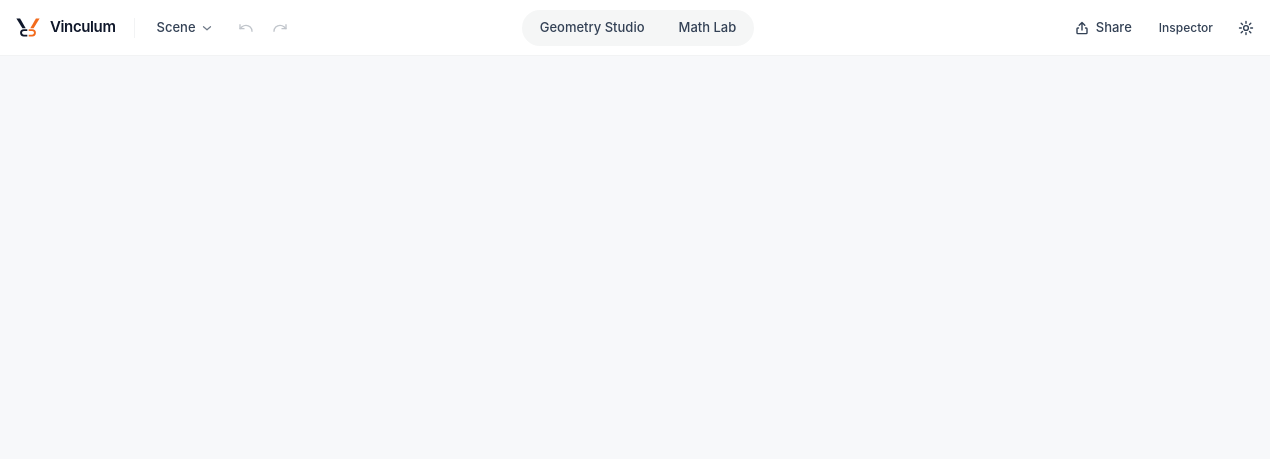
it: TopToolbar scene menu › opens and lists expected grouped actions
Click the button "Scene" at (185, 28), box [147,12,224,44]
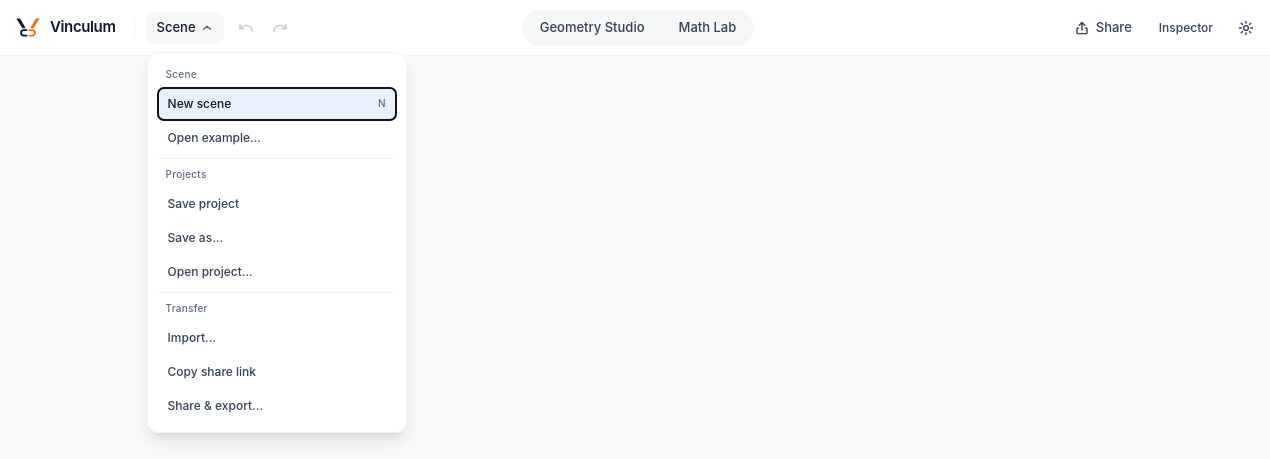
Result: the text "Projects" is shown at [166,168,207,180]
Result: the text "Transfer" is shown at [166,302,208,314]
Result: the number of menu items is 8
